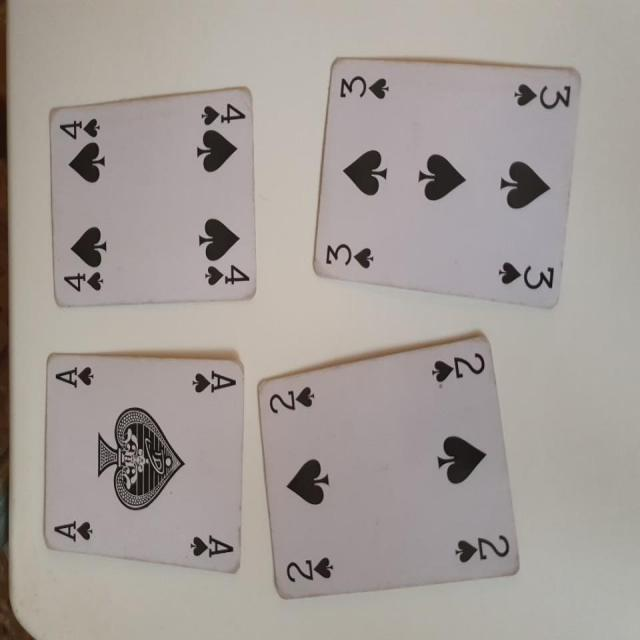3 Diamonds: (257, 332, 527, 604)
4 Diamonds: (308, 52, 584, 320)
5 Diamonds: (46, 82, 257, 305)
A Spades: (42, 355, 244, 575)
